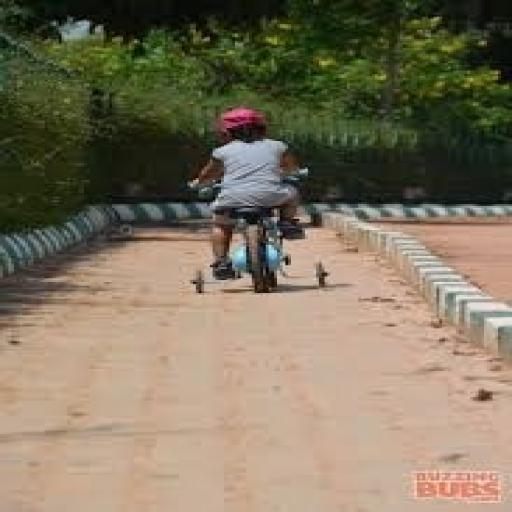cycling: (184, 106, 310, 282)
